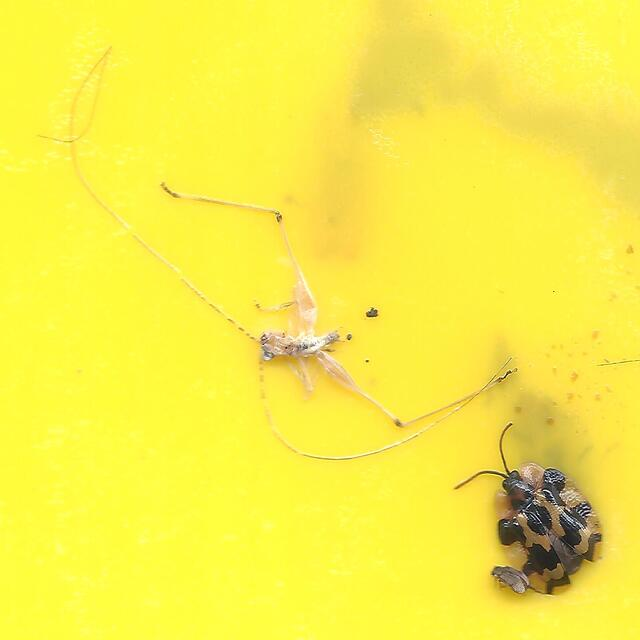Coleoptera: (455, 422, 605, 598), (490, 564, 531, 597)
Orthoptera: (35, 42, 520, 459)
